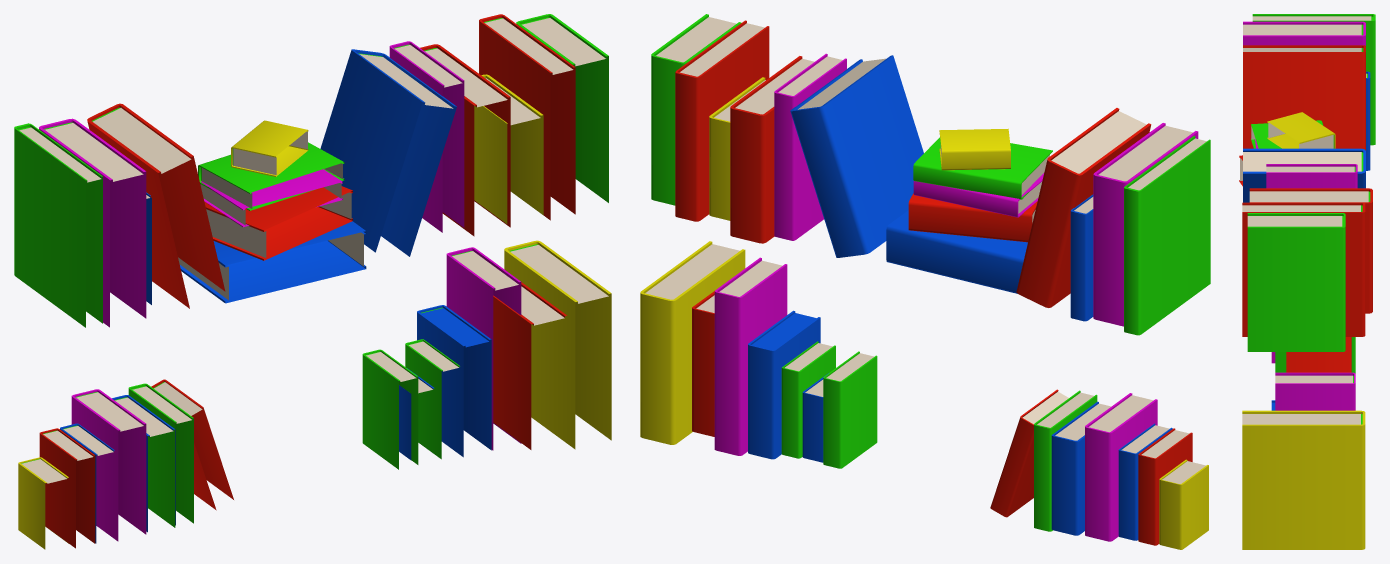
Rendered from Libros.fbx.
The picture shows the model from 3 angles, left to right: view 1: azimuth 30°, elevation 25°; view 2: azimuth 150°, elevation 25°; view 3: azimuth 270°, elevation 25°; orthographic projection. The views are drawn at different scales.
Parts seen in each view (by area): view 1: Cube.037; view 2: Cube.037; view 3: Cube.037.
Part boxes in pixels (x1,y1,x2,y2): Cube.037: [14, 14, 611, 549]; Cube.037: [640, 14, 1210, 549]; Cube.037: [1239, 14, 1375, 549].
Size of the model in its own units: 169 by 116 by 43.98.
